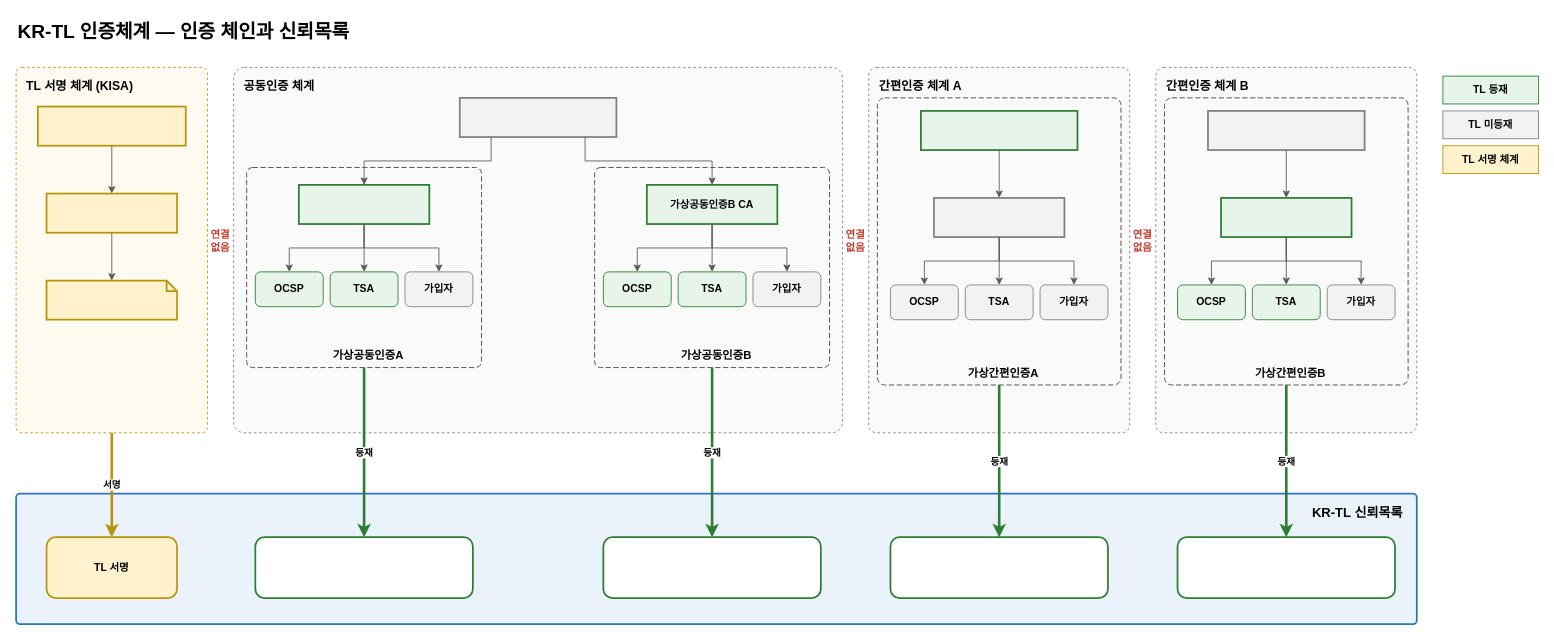
The diagram is 1554 pixels wide and 639 high, and some of its shapes have lost their labels. The shapes that lost their labels are listed below. From the top down, each one's centre as x and y in pixels, then its label:
(x=111, y=125): KISA TL RootCA
(x=537, y=117): KISA RootCA
(x=999, y=130): 가상간편인증A RootCA
(x=1286, y=130): 가상간편인증B RootCA
(x=111, y=212): KISA TL CA
(x=364, y=204): 가상공동인증A CA
(x=999, y=217): 가상간편인증A CA
(x=1286, y=217): 가상간편인증B CA
(x=111, y=299): TL 서명 인증서
(x=363, y=567): 가상공동인증A CA · OCSP · TSA (레벨 1)
(x=711, y=567): 가상공동인증B CA · OCSP · TSA (레벨 1)
(x=998, y=567): 가상간편인증A RootCA (레벨 0)
(x=1285, y=567): 가상간편인증B CA · OCSP · TSA (레벨 1)
